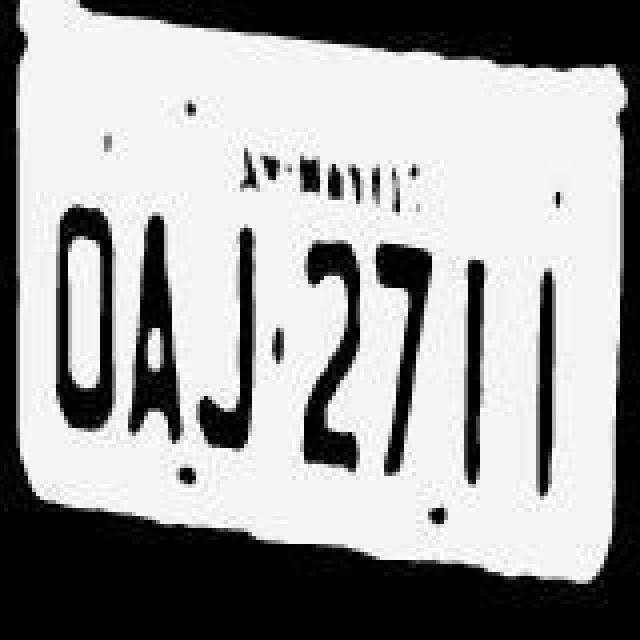1: (524, 258, 580, 510), (454, 238, 506, 498)
2: (288, 228, 368, 492)
7: (366, 234, 434, 494)
A: (122, 198, 190, 458)
J: (194, 202, 270, 470)
O: (44, 192, 116, 448)
